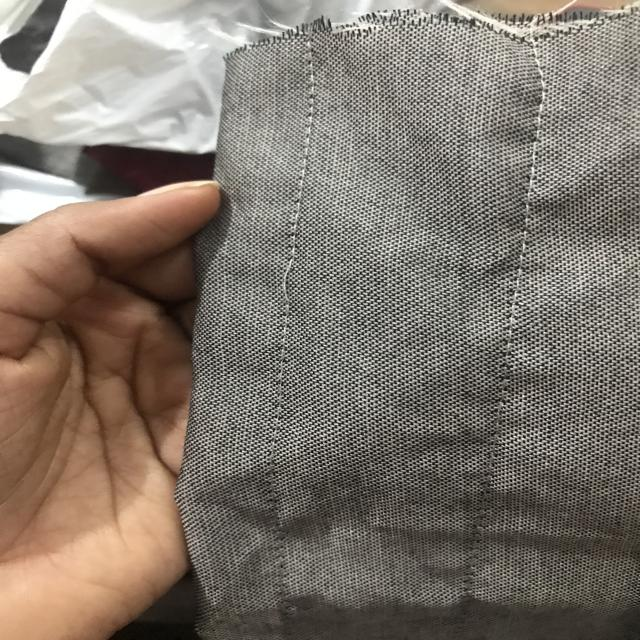skip: (263, 253, 311, 311)
